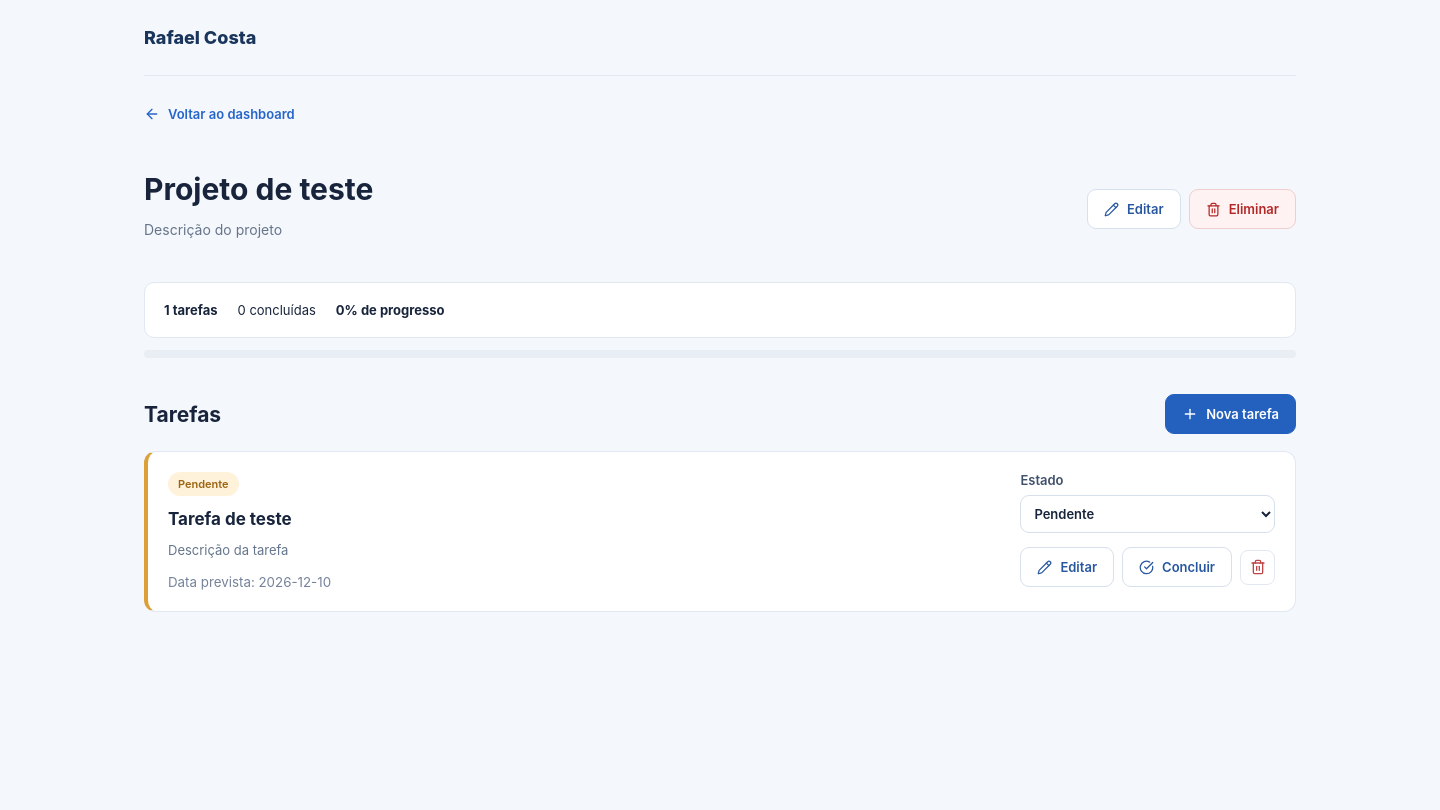
Test: Ramificações adicionais de ProjectDetail › mostra erro quando a eliminação do projeto falha
The image size is (1440, 810).
Expected: the heading "Projeto de teste" is shown, [144,171,373,207]
Expected: the heading "Tarefa de teste" is shown, [168,509,292,529]
Click the button "Eliminar" at (1242, 209), box [1189,189,1296,229]
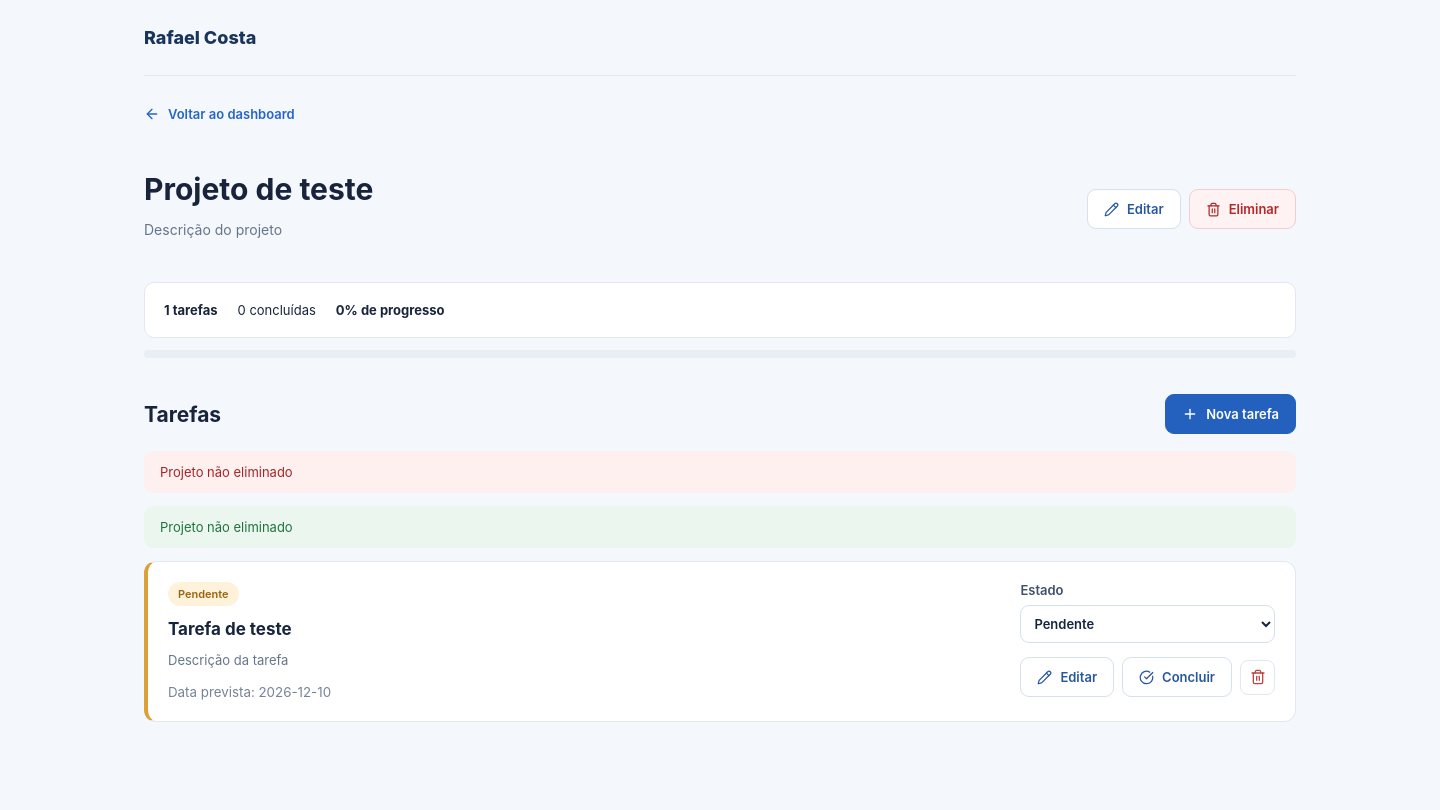
Expected: the heading "Projeto de teste" is shown, [144,171,373,207]
Expected: the 2nd message "Projeto não eliminado" is shown, [144,506,1296,548]
